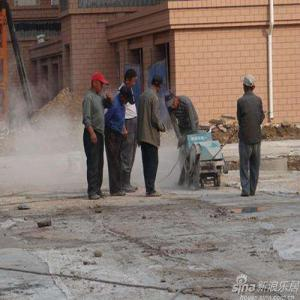none: (165, 89, 178, 112), (119, 85, 132, 107), (152, 73, 165, 95), (125, 68, 138, 89)
red: (90, 71, 106, 96)
white: (242, 73, 258, 97)
